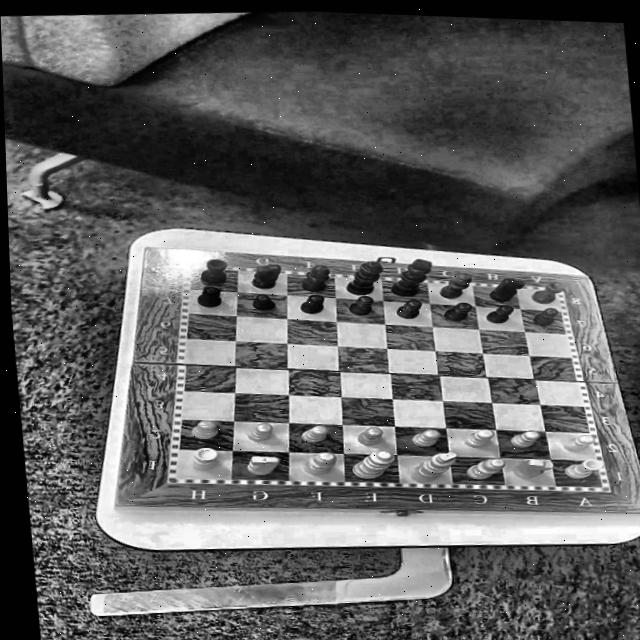chessboard: (178, 268, 603, 487)
